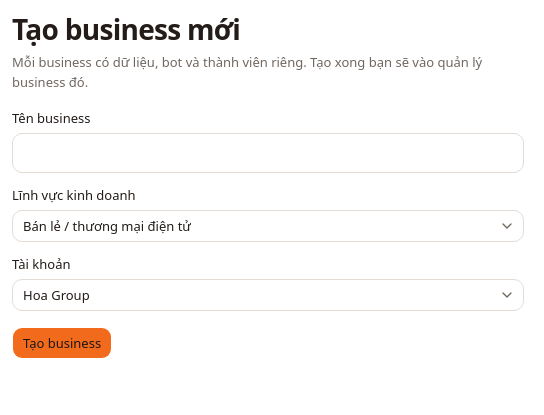
Test case: CreateBusinessPage › asks which account when the user owns several, and sends it (ADR-012 §3)
The width and height of the screenshot is (544, 415).
Expected: the dropdown named "Tài khoản" reads "Hoa Group", [12, 279, 524, 311]
In the field labelled "Tên business": (268, 153) [12, 133, 524, 173], type "Hoa Spa"
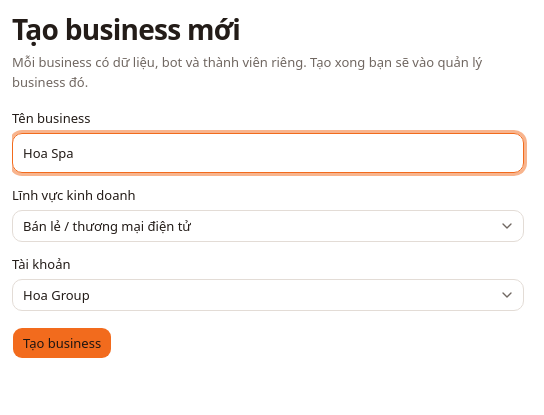
Click the button "Tạo business": click(62, 343) [12, 327, 112, 359]
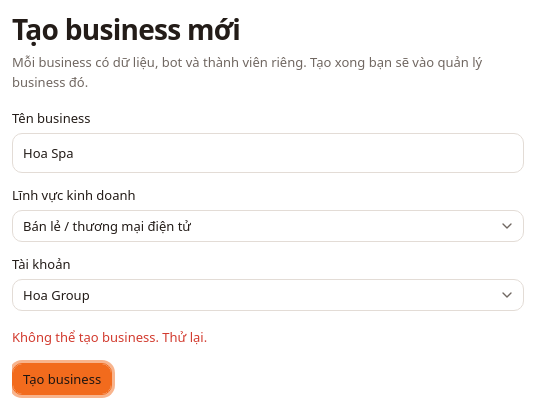
Result: the message "Không thể tạo business. Thử lại." is shown at [12, 328, 207, 346]
